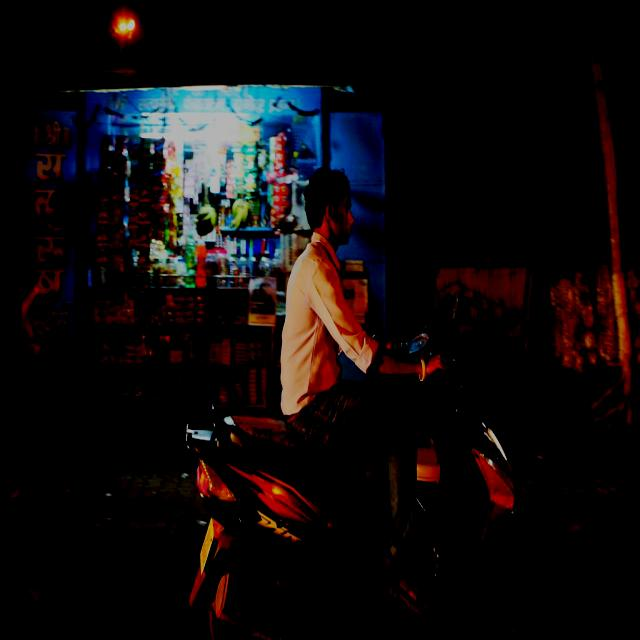Motorbike: (176, 290, 542, 640)
